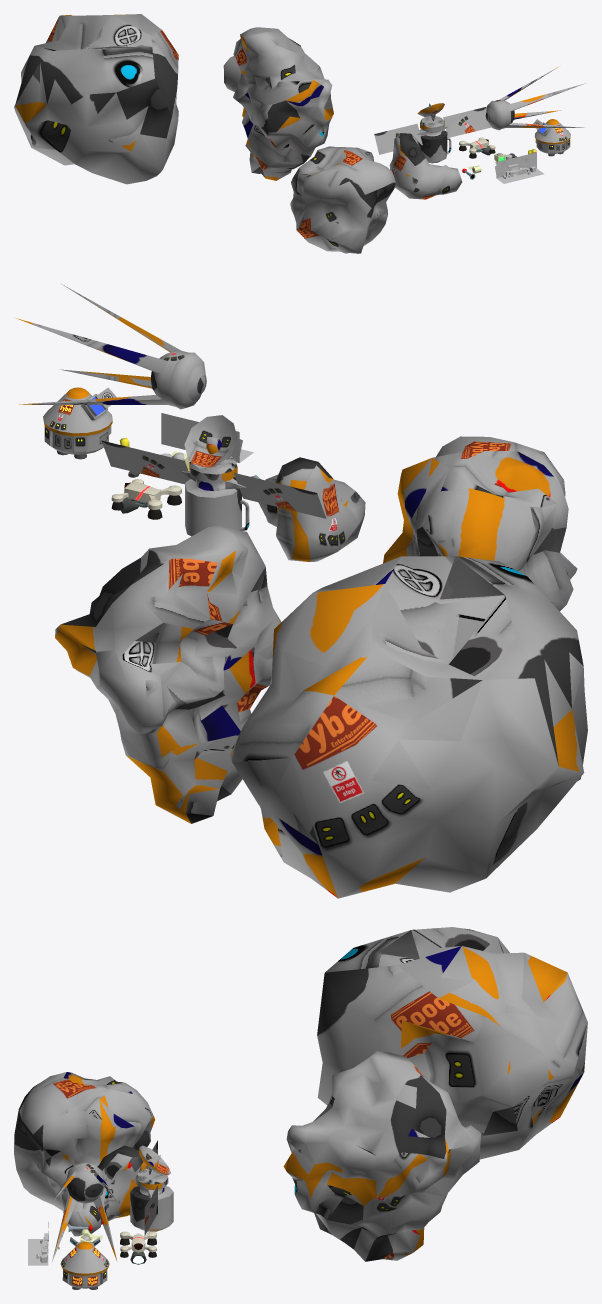
File: CRT.fbx
3 renders of one model, top to bottom at view 1: azimuth 30°, elevation 25°; view 2: azimuth 150°, elevation 25°; view 3: azimuth 270°, elevation 25°, orthographic. The views are drawn at different scales.
Parts seen in each view (by area): view 1: asteroid2, asteroid3, asteroid4, saterlite, asteroid 1, Sphere, SpacePod, Flooor, drone; view 2: asteroid2, asteroid3, asteroid4, saterlite, asteroid 1, Sphere, SpacePod, drone, Flooor; view 3: asteroid2, asteroid3, asteroid4, asteroid 1, saterlite, Sphere, SpacePod, drone.
Boxes of the visible parts, <box> form: asteroid2: <box>14,14,178,184</box>; asteroid3: <box>223,27,333,180</box>; asteroid4: <box>290,146,395,253</box>; saterlite: <box>374,103,491,163</box>; asteroid 1: <box>389,133,462,199</box>; Sphere: <box>485,67,585,130</box>; SpacePod: <box>533,119,570,156</box>; Flooor: <box>496,152,544,183</box>; drone: <box>459,137,495,158</box>; asteroid2: <box>230,556,587,898</box>; asteroid3: <box>55,525,281,823</box>; asteroid4: <box>383,436,577,611</box>; saterlite: <box>101,415,326,536</box>; asteroid 1: <box>258,457,365,561</box>; Sphere: <box>16,284,206,409</box>; SpacePod: <box>43,387,116,459</box>; drone: <box>111,479,181,519</box>; Flooor: <box>161,413,253,462</box>; asteroid2: <box>317,927,587,1159</box>; asteroid3: <box>283,1050,481,1261</box>; asteroid4: <box>14,1072,154,1218</box>; asteroid 1: <box>61,1145,146,1236</box>; saterlite: <box>130,1140,173,1235</box>; Sphere: <box>52,1162,117,1261</box>; SpacePod: <box>60,1237,109,1289</box>; drone: <box>120,1231,156,1264</box>.
Size of the model in its own units: 13742 by 5411 by 12212.
